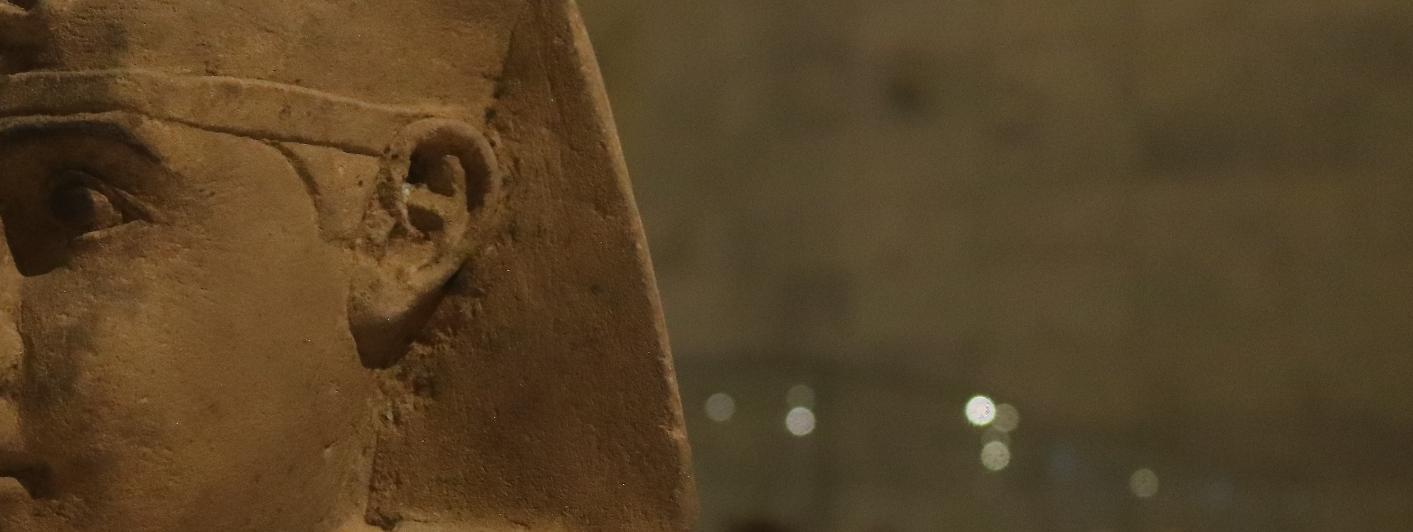statue_ofthe_sphinx: (0, 0, 1263, 532)
